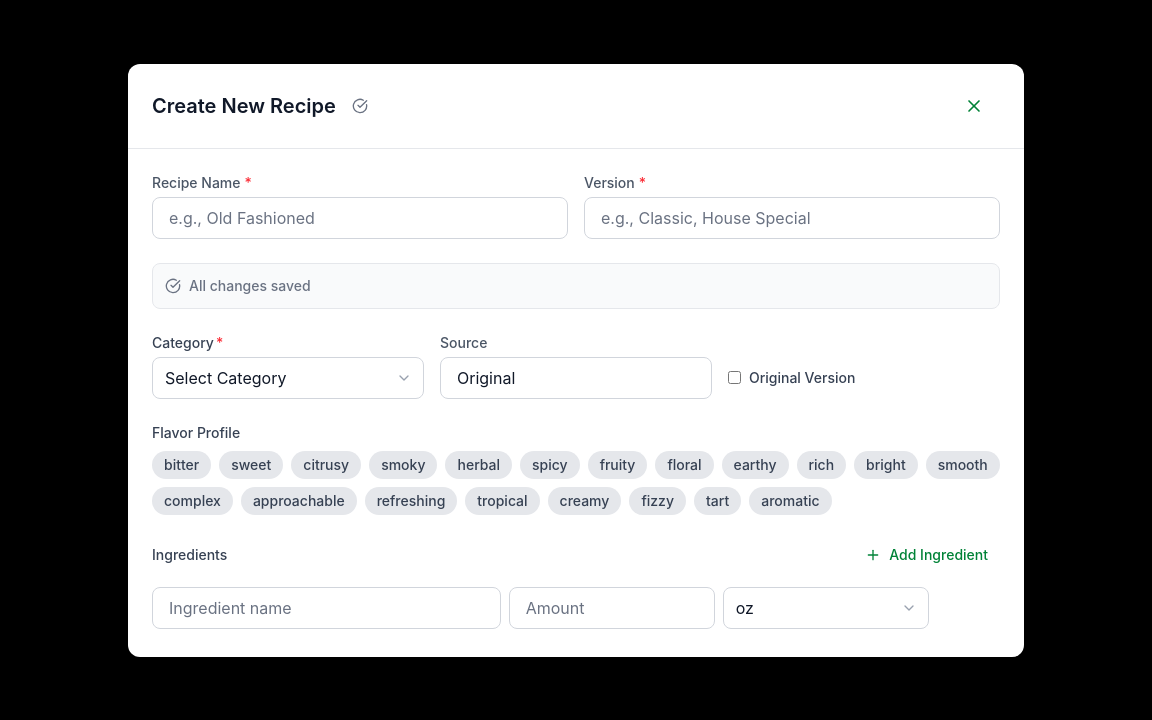
it: RecipeModal Component › handles ingredient autocomplete
Expected: the number of fields with placeholder "Ingredient name" is 1, [152,586,501,628]
Click the button "Add Ingredient": point(927, 554) [853,538,1000,570]
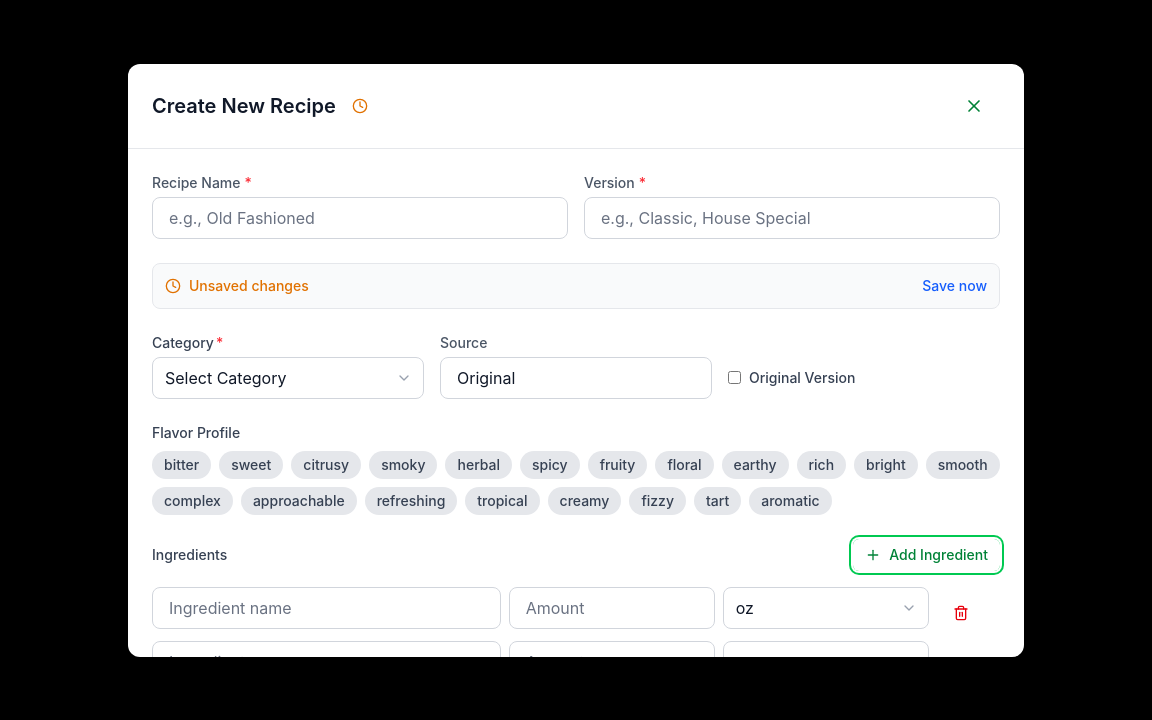
Result: the number of fields with placeholder "Ingredient name" is 2
Result: the number of number fields with placeholder "Amount" is 2
